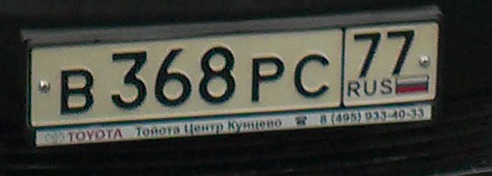character: (194, 44, 241, 106), (107, 49, 151, 112), (153, 48, 194, 110), (57, 66, 97, 115), (250, 54, 288, 104), (292, 52, 333, 98), (382, 29, 418, 77), (349, 30, 383, 79)
